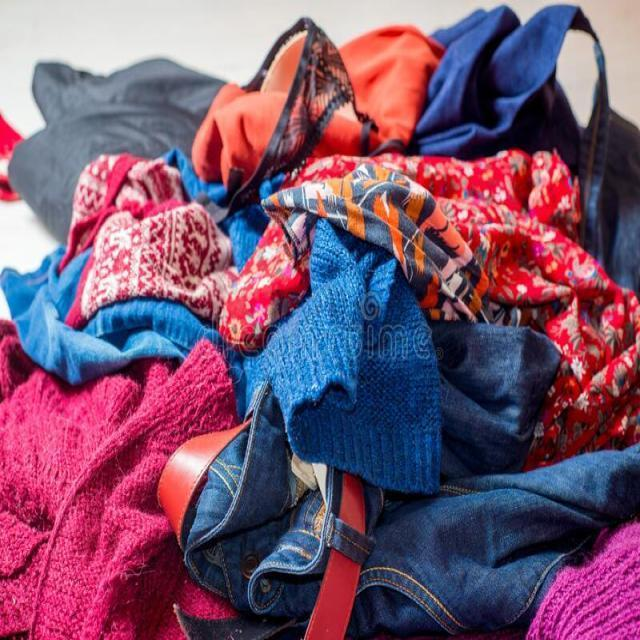clothes: (69, 93, 606, 640)
